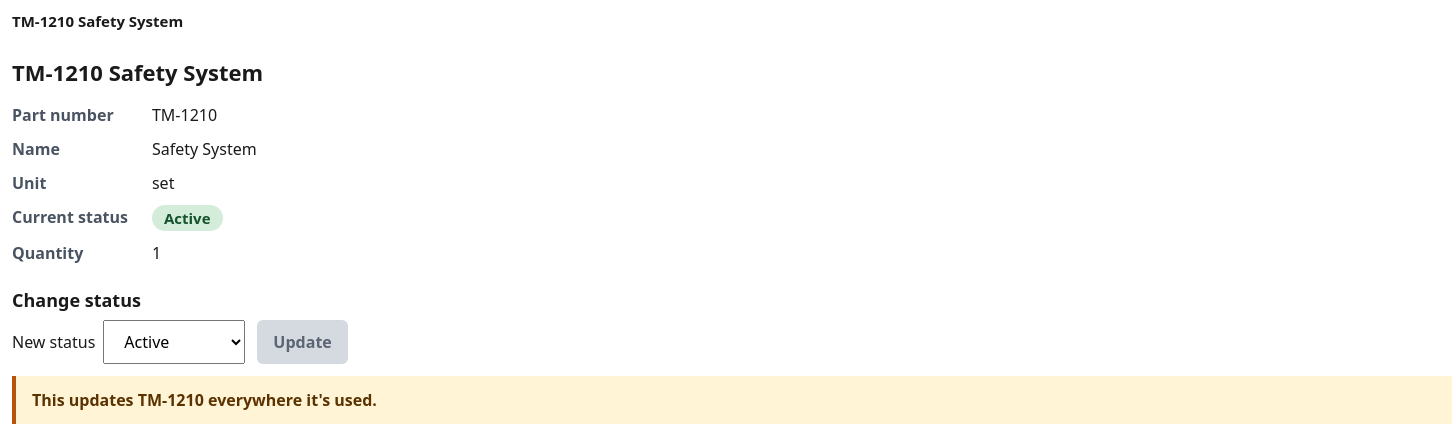
PartDetails status dropdown › keeps Update disabled until a different status is picked
This screenshot has width=1452, height=441.
expect the button "Update" is disabled: met, box [257,320,348,364]
Select "Deprecated" in the dropdown labelled "New status" at (174, 342), box [103,320,245,364]
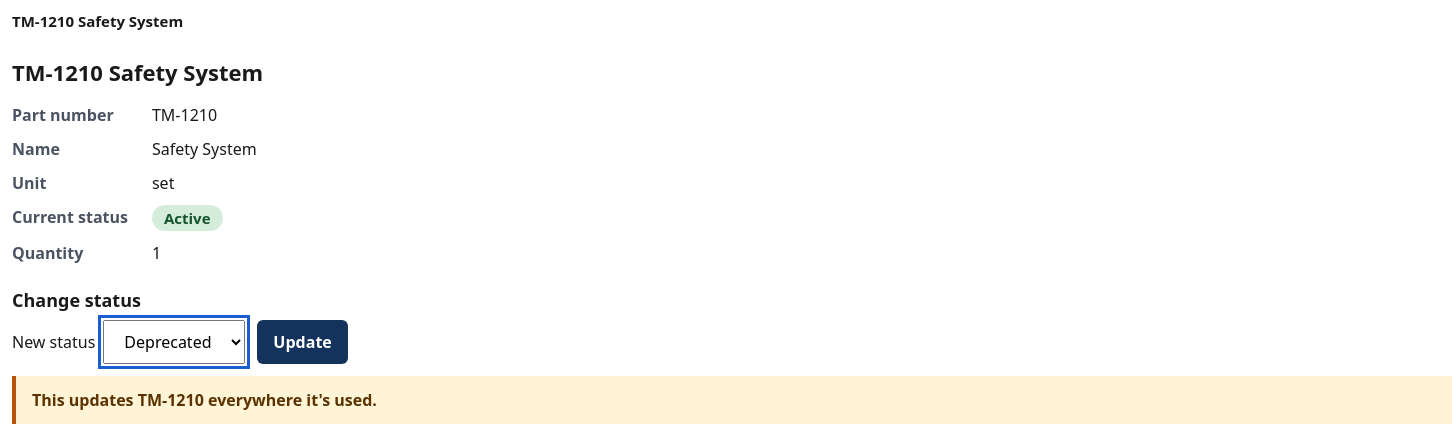
expect the button "Update" is enabled: met, box [257,320,348,364]
Going back to the current status disables it again.
Select "Active" in the dropdown labelled "New status" at (174, 342), box [103,320,245,364]
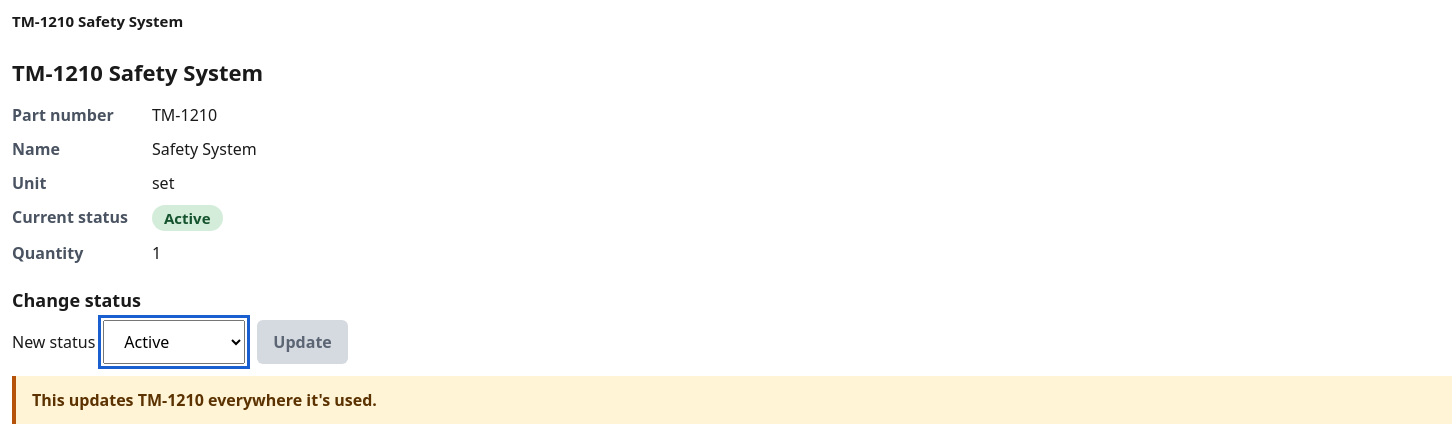
expect the button "Update" is disabled: met, box [257,320,348,364]
